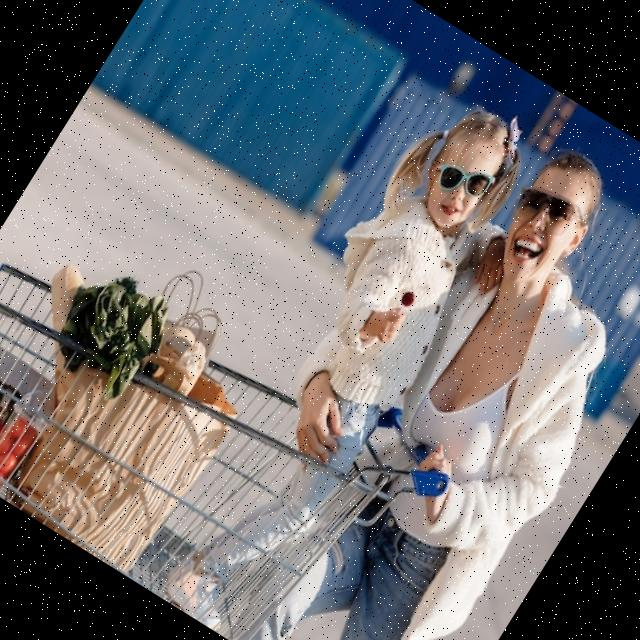Person: (158, 87, 640, 640), (131, 74, 577, 640)
